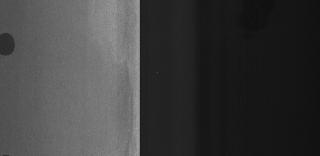oil spot: (1, 30, 20, 62)
